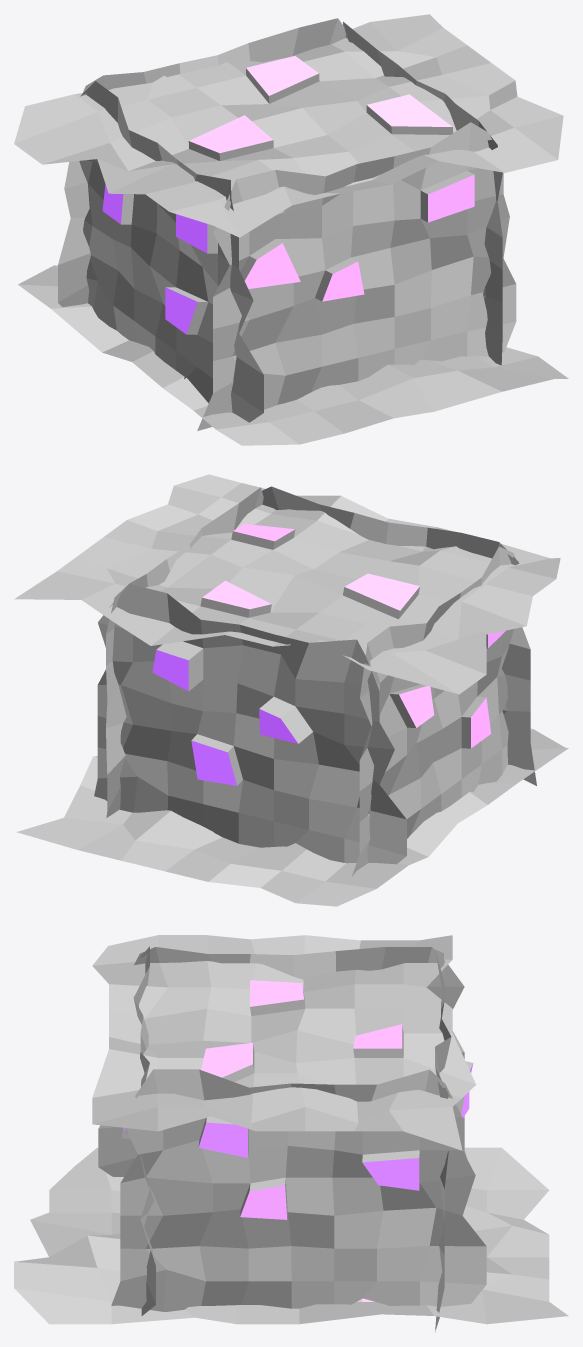
Rendered from fin.fbx.
3 views of the same model, one above another, from view 1: azimuth 30°, elevation 25°; view 2: azimuth 150°, elevation 25°; view 3: azimuth 270°, elevation 25° (orthographic). The views are drawn at different scales.
Parts seen in each view (by area): view 1: Skybox.012, Skybox.011, Skybox.010, Skybox.013, Skybox.009, Skybox.008; view 2: Skybox.009, Skybox.012, Skybox.013, Skybox.010, Skybox.011, Skybox.008; view 3: Skybox.008, Skybox.012, Skybox.013, Skybox.010, Skybox.009, Skybox.011.
Part boxes in pixels (x1=…): Skybox.012: x1=14, y1=14, x2=563, y2=237; Skybox.011: x1=197, y1=122, x2=516, y2=430; Skybox.010: x1=79, y1=81, x2=263, y2=422; Skybox.013: x1=18, y1=265, x2=568, y2=445; Skybox.009: x1=58, y1=18, x2=345, y2=306; Skybox.008: x1=343, y1=21, x2=502, y2=365; Skybox.009: x1=94, y1=584, x2=406, y2=864; Skybox.012: x1=14, y1=474, x2=560, y2=694; Skybox.013: x1=16, y1=728, x2=568, y2=906; Skybox.010: x1=351, y1=546, x2=515, y2=876; Skybox.011: x1=262, y1=486, x2=536, y2=785; Skybox.008: x1=106, y1=487, x2=263, y2=817; Skybox.008: x1=111, y1=1069, x2=486, y2=1311; Skybox.012: x1=92, y1=935, x2=476, y2=1150; Skybox.013: x1=14, y1=1147, x2=568, y2=1324; Skybox.010: x1=98, y1=947, x2=466, y2=1176; Skybox.009: x1=435, y1=949, x2=473, y2=1332; Skybox.011: x1=121, y1=946, x2=155, y2=1315.
Size of the model in its own units: 44821 by 24823 by 48271.
